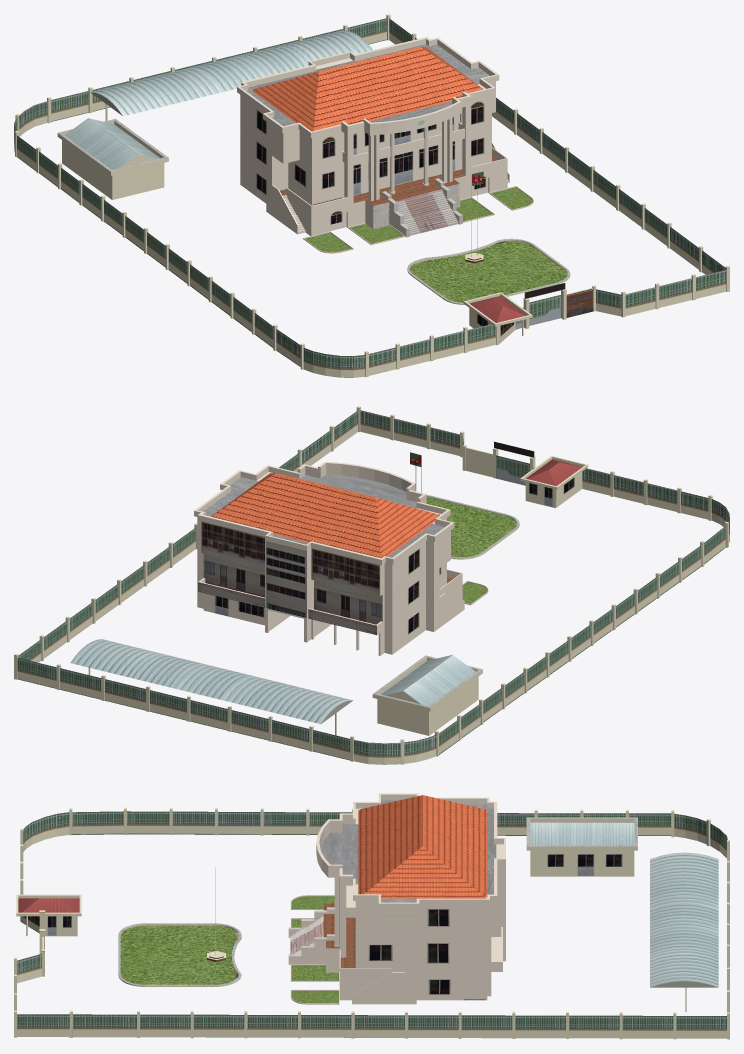
The model's file is Ban Tuyen giao Tinh Uy Binh Phuoc.glb.
3 renders of one model, top to bottom at view 1: azimuth 30°, elevation 25°; view 2: azimuth 150°, elevation 25°; view 3: azimuth 270°, elevation 25°, orthographic. The views are drawn at different scales.
Visible parts, largest first — view 1: Nha Chinh, Cong Rao, Nha Xe 1, Cot Co, Nha Xe 2; view 2: Nha Chinh, Cong Rao, Nha Xe 1, Nha Xe 2, Cot Co; view 3: Nha Chinh, Cong Rao, Nha Xe 1, Cot Co, Nha Xe 2.
Boxes of the visible parts, bbox=[...] form: Nha Chinh: bbox=[237, 37, 533, 253]; Cong Rao: bbox=[14, 14, 729, 377]; Nha Xe 1: bbox=[90, 30, 372, 120]; Cot Co: bbox=[407, 171, 570, 304]; Nha Xe 2: bbox=[57, 118, 168, 199]; Nha Chinh: bbox=[194, 461, 488, 655]; Cong Rao: bbox=[14, 406, 729, 764]; Nha Xe 1: bbox=[70, 639, 352, 735]; Nha Xe 2: bbox=[372, 654, 482, 735]; Cot Co: bbox=[410, 452, 519, 559]; Nha Chinh: bbox=[288, 793, 505, 1004]; Cong Rao: bbox=[14, 807, 729, 1039]; Nha Xe 1: bbox=[650, 852, 718, 1011]; Cot Co: bbox=[118, 867, 241, 986]; Nha Xe 2: bbox=[526, 817, 637, 876].
Size of the model in its own units: 52.87 by 16.02 by 77.64.
3 materials, 3 textured.
